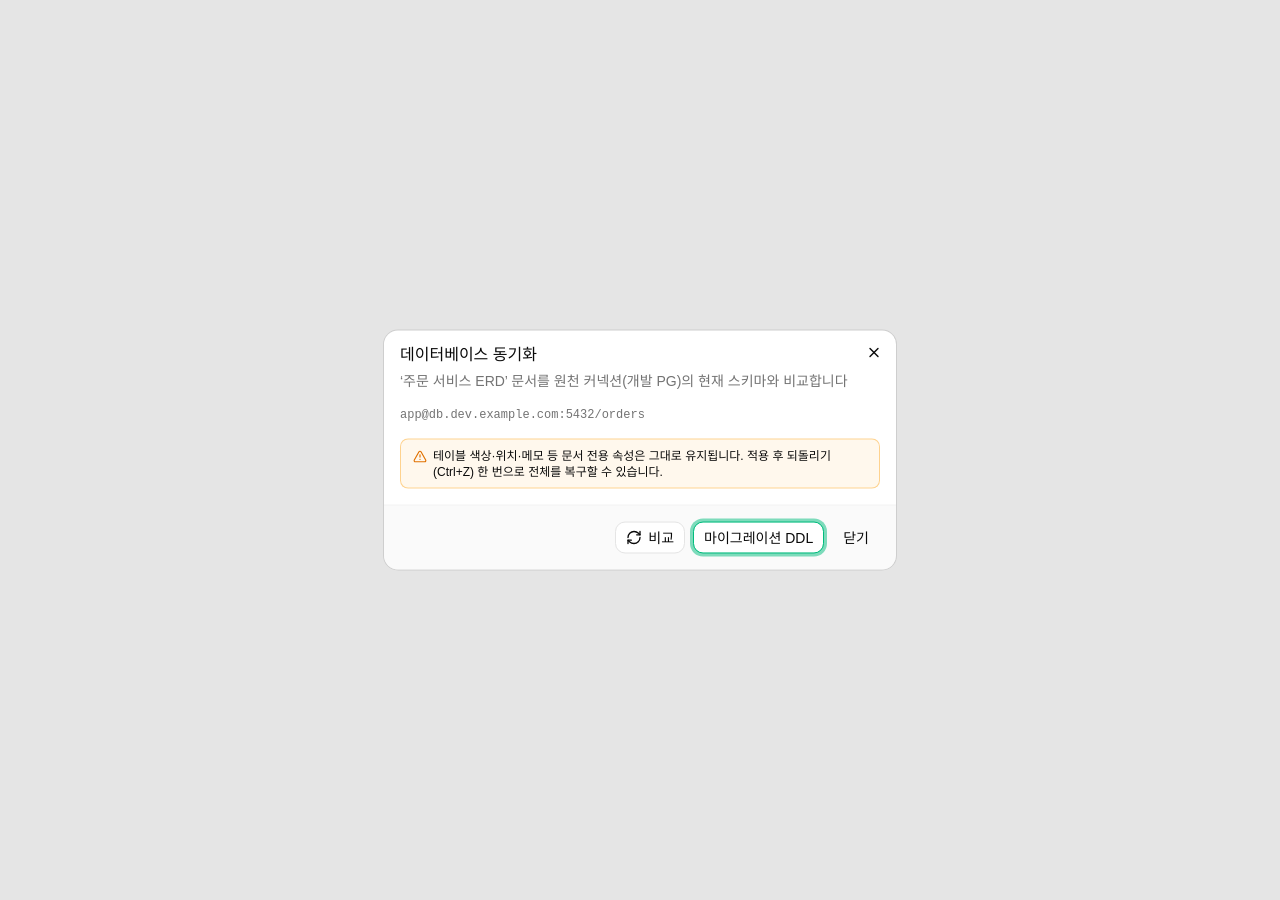
SyncDialog — 비교 › 원천 커넥션 요약을 표시하고 비교하면 차분 목록을 그룹으로 보여준다
This screenshot has width=1280, height=900.
Expected: the text "app@db.dev.example.com:5432/orders" is shown, [400,408,645,422]
Click the button with test id "sync-compare": (650, 538) [615,522,685,554]
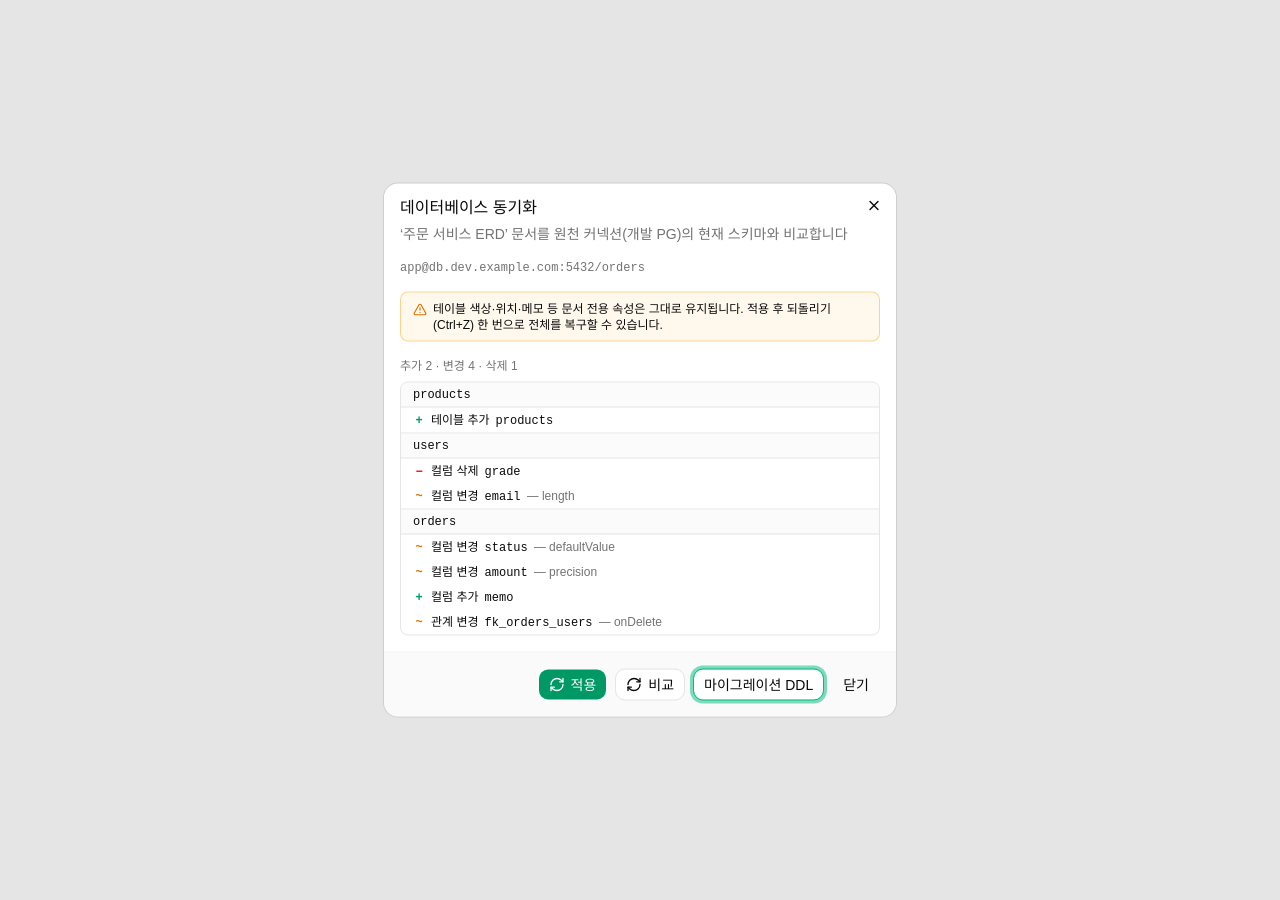
Expected: the text with test id "sync-counts" reads "추가 2 · 변경 4 · 삭제 1", [400,358,518,372]
Expected: the 1st text "products" is shown, [401,382,879,408]
Expected: the text "users" is shown, [401,434,879,458]
